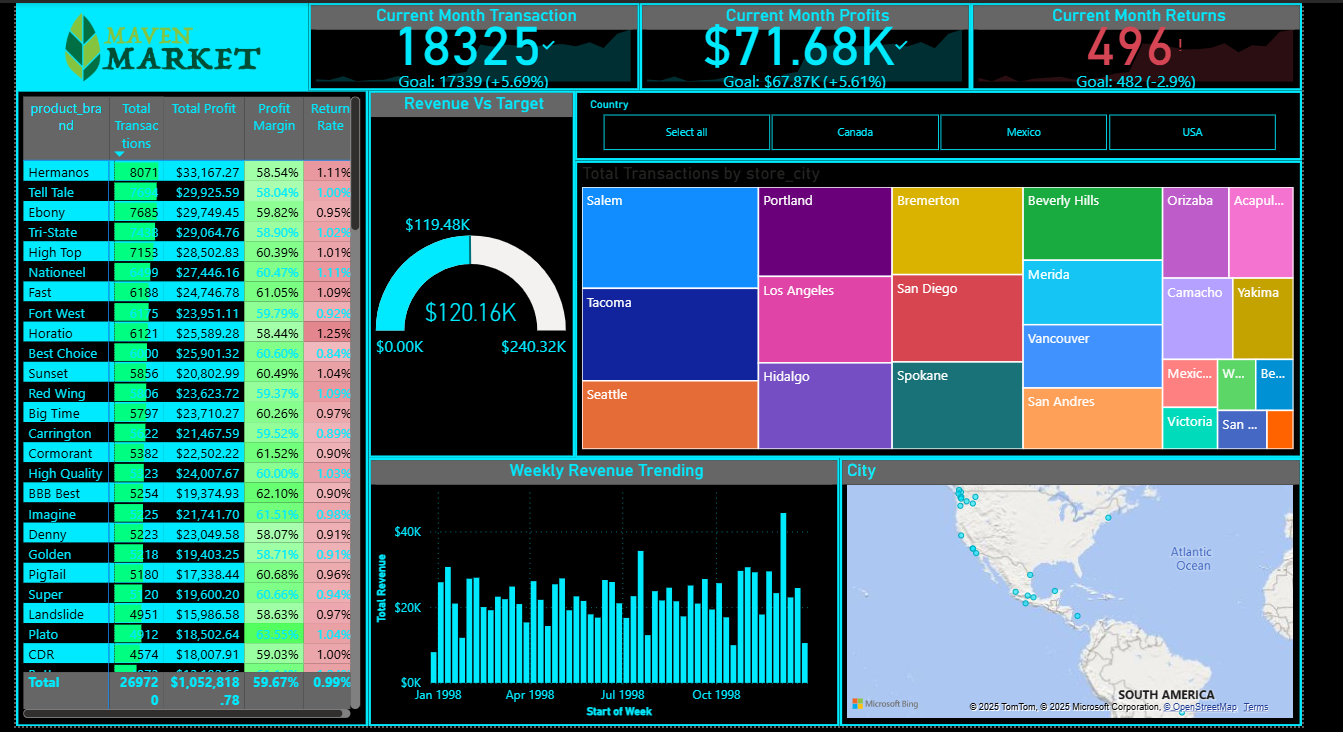

This screenshot's page, from the dashboard's own definition file:
{"tool":"powerbi","page":{"name":"Topline Performance","canvas":[1280,720],"ordinal":0},"visuals":[{"type":"image","box":[0,0,291.1,87.1],"z":0},{"type":"pivotTable","fields":{"Values":["Transaction Data.Total Transactions","Transaction Data.Total Profit","Transaction Data.Profit Margin","Return_Data.Return Rate"],"Rows":["Products.product_brand"]},"box":[0,85.8,350.8,634.4],"z":1000},{"type":"kpi","title":"Current Month Transaction","fields":{"Indicator":["Transaction Data.Total Transactions"],"TrendLine":["MavenMarket_Calendar.Start of Month"],"Goal":["Transaction Data.Last Month Transactions"]},"box":[291.1,0,329.6,87.1],"z":2000},{"type":"kpi","title":"Current Month Profits","fields":{"TrendLine":["MavenMarket_Calendar.Start of Month"],"Indicator":["Transaction Data.Total Profit"],"Goal":["Transaction Data.Last Month Profit"]},"box":[620.7,0,329.6,87.1],"z":3000},{"type":"kpi","title":"Current Month Returns","fields":{"TrendLine":["MavenMarket_Calendar.Start of Month"],"Goal":["Return_Data.Last Month Returns"],"Indicator":["Return_Data.Total Returns"]},"box":[950.4,0,329.6,87.1],"z":4000},{"type":"map","title":"City","fields":{"Category":["Stores.store_city"]},"box":[819.8,452.8,460.3,267.5],"z":5000},{"type":"slicer","fields":{"Values":["Stores.store_country"]},"box":[556,87.1,724,69.7],"z":6000},{"type":"treemap","fields":{"Values":["Transaction Data.Total Transactions"],"Group":["Stores.store_country","Stores.store_state","Stores.store_city"]},"box":[556,156.7,724,296.1],"z":7000},{"type":"columnChart","title":"Weekly Revenue Trending","fields":{"Y":["Transaction Data.Total Revenue"],"Category":["MavenMarket_Calendar.Start of Week"]},"box":[350.8,452.8,469,267.5],"z":8000},{"type":"gauge","title":"Revenue Vs Target","fields":{"Y":["Transaction Data.Total Revenue"],"TargetValue":["Transaction Data.Revenue Target"]},"box":[350.8,87.1,205.3,365.7],"z":9000}]}

Visuals, with their boxes in screenshot pixels (x1, y1, x2, y2):
image: detection(14, 0, 305, 84)
pivotTable - Transaction Data.Total Transactions x Transaction Data.Total Profit: detection(14, 82, 365, 718)
"Current Month Transaction" kpi: detection(305, 0, 635, 84)
"Current Month Profits" kpi: detection(635, 0, 965, 84)
"Current Month Returns" kpi: detection(966, 0, 1296, 84)
"City" map: detection(835, 450, 1296, 718)
slicer - Stores.store_country: detection(571, 84, 1296, 153)
treemap - Transaction Data.Total Transactions x Stores.store_country: detection(571, 153, 1296, 450)
"Weekly Revenue Trending" columnChart: detection(365, 450, 835, 718)
"Revenue Vs Target" gauge: detection(365, 84, 571, 450)
